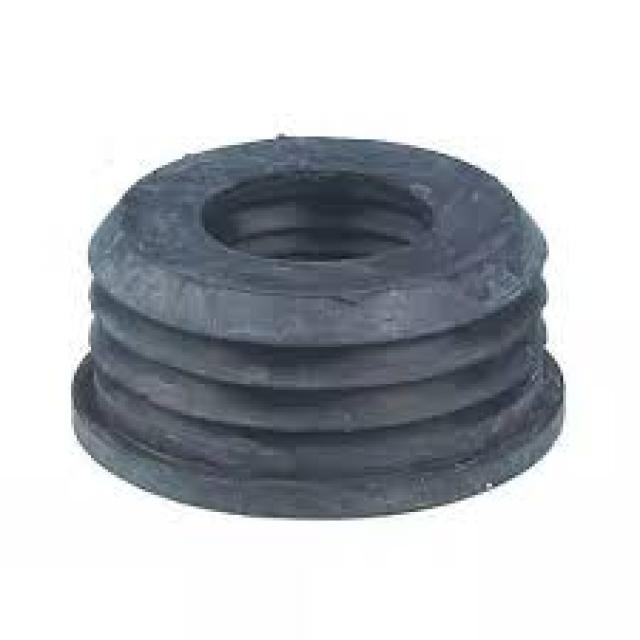Rubber -Non-Biodegradable but Recyclable-: (69, 128, 570, 534)
